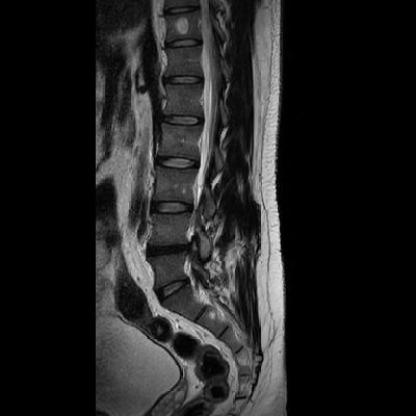Disc Bulgerotation: (144, 240, 189, 263)
